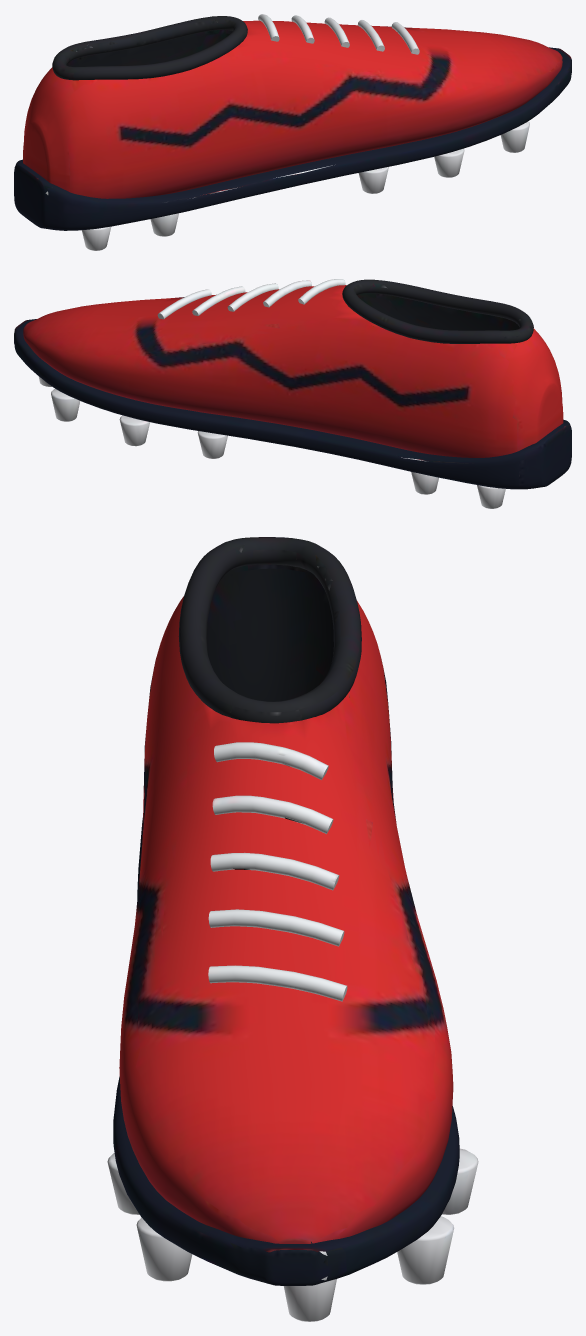
The model's file is boot-power.glb.
3 views of the same model, one above another, from view 1: azimuth 30°, elevation 25°; view 2: azimuth 150°, elevation 25°; view 3: azimuth 270°, elevation 25° (orthographic). The views are drawn at different scales.
Visible parts, largest first — view 1: boot-power; view 2: boot-power; view 3: boot-power.
Part boxes in pixels (left/top/right/bottom): boot-power: left=14, top=14, right=571, bottom=250; boot-power: left=14, top=279, right=571, bottom=508; boot-power: left=107, top=537, right=478, bottom=1321.
Size of the model in its own units: 0.298 by 0.0912 by 0.0901.
Materials: 6 (6 with a texture image).
